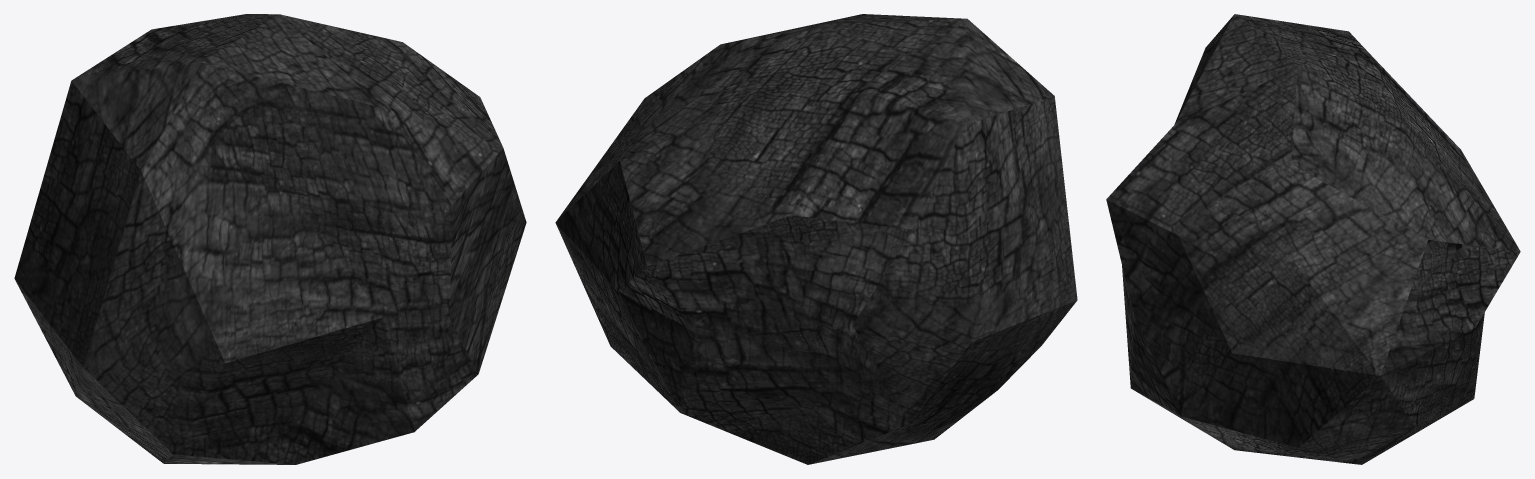
Rendered from coal.fbx.
The picture shows the model from 3 angles, left to right: view 1: azimuth 30°, elevation 25°; view 2: azimuth 150°, elevation 25°; view 3: azimuth 270°, elevation 25°; orthographic projection. The views are drawn at different scales.
Visible parts, largest first — view 1: charcoal; view 2: charcoal; view 3: charcoal.
Boxes of the visible parts, bbox=[...] form: charcoal: bbox=[14, 14, 526, 464]; charcoal: bbox=[555, 14, 1077, 464]; charcoal: bbox=[1106, 14, 1520, 464].
Bounding box in the file's own units: 30.99 × 26.55 × 27.08.
Materials: 1 (1 with a texture image).
